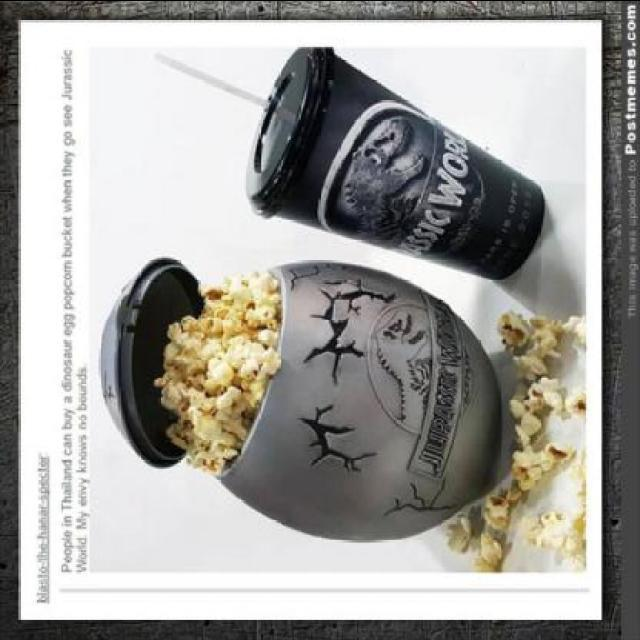Popcorn: (440, 312, 588, 570), (442, 314, 584, 574), (152, 268, 286, 478)
